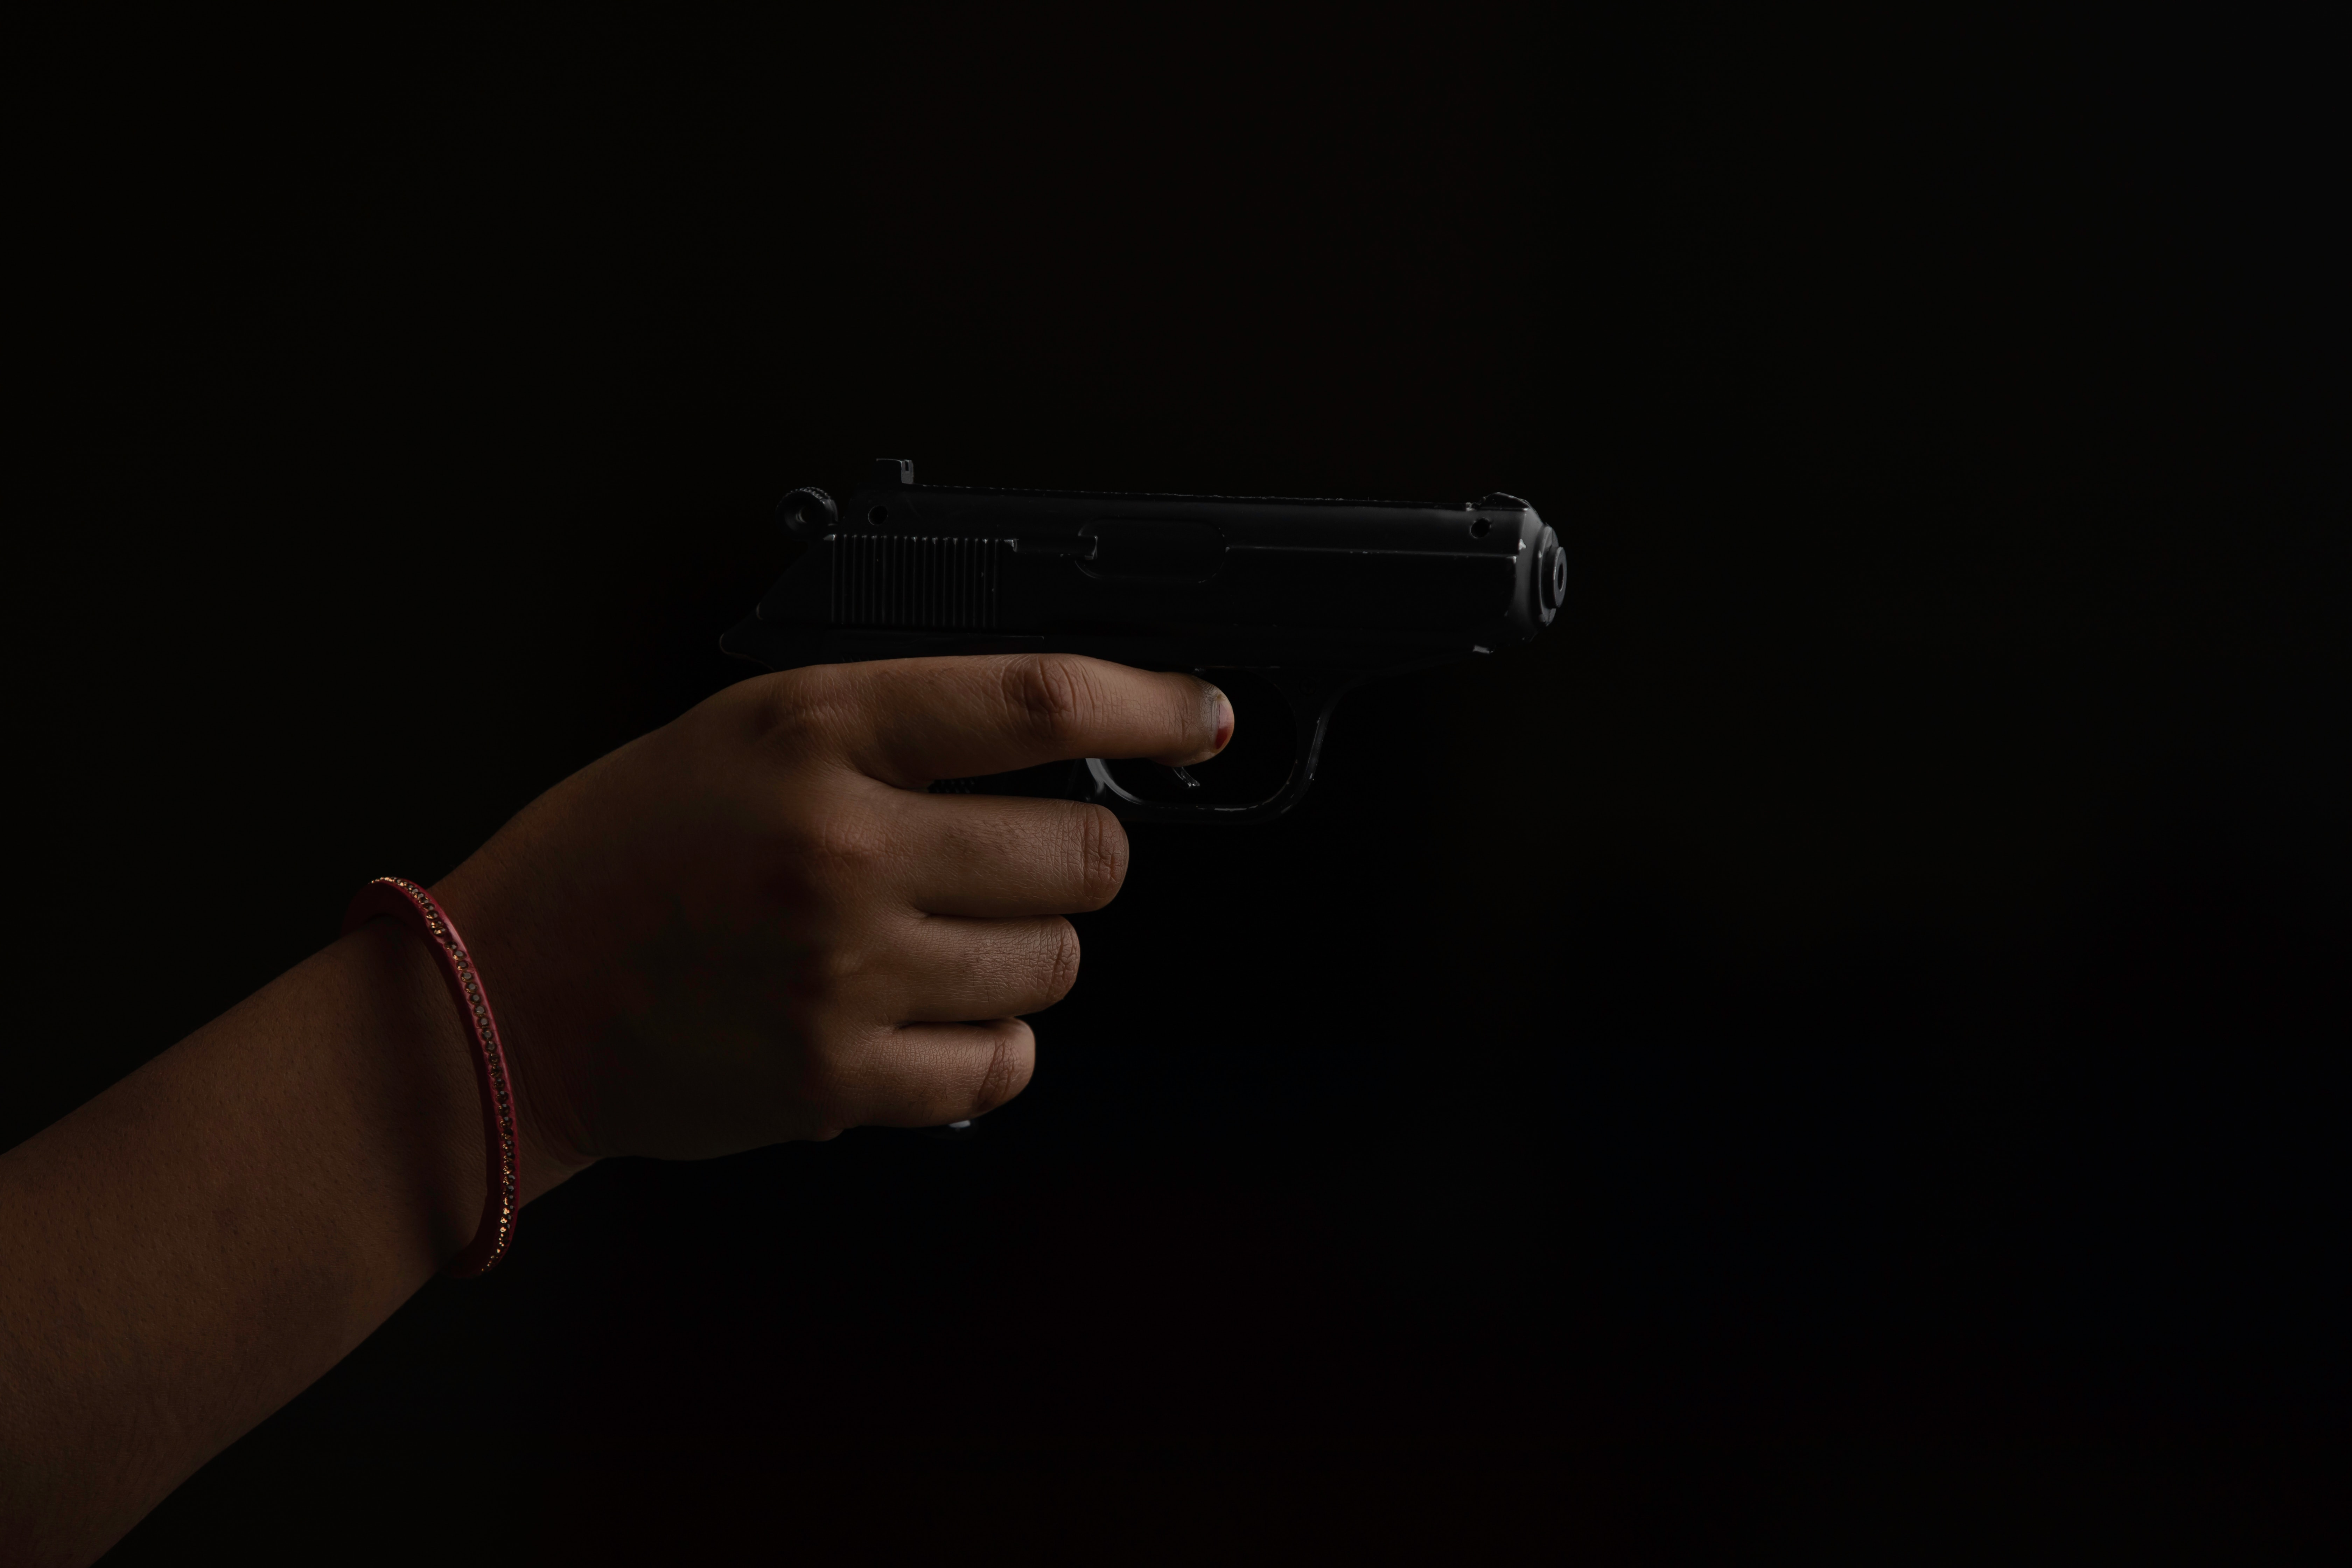gun: (737, 434, 1599, 1167)
